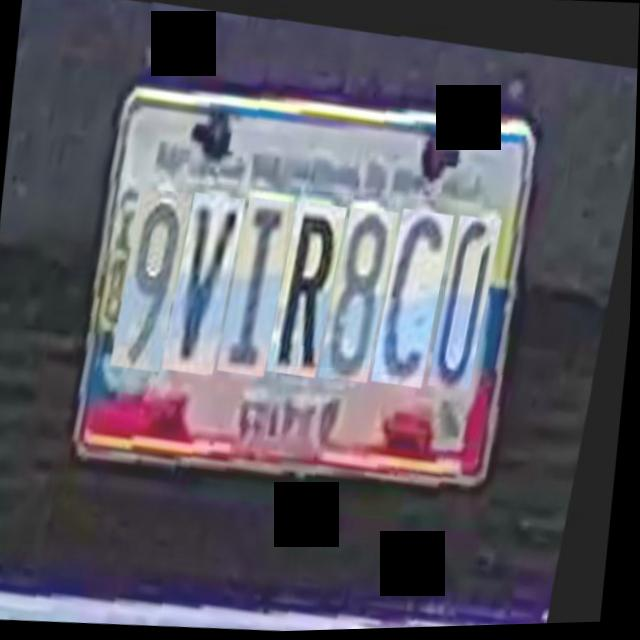0: (436, 205, 508, 383)
8: (328, 196, 405, 376)
9: (119, 178, 199, 367)
C: (379, 199, 460, 381)
I: (226, 187, 302, 371)
R: (274, 191, 352, 371)
V: (171, 183, 251, 370)
